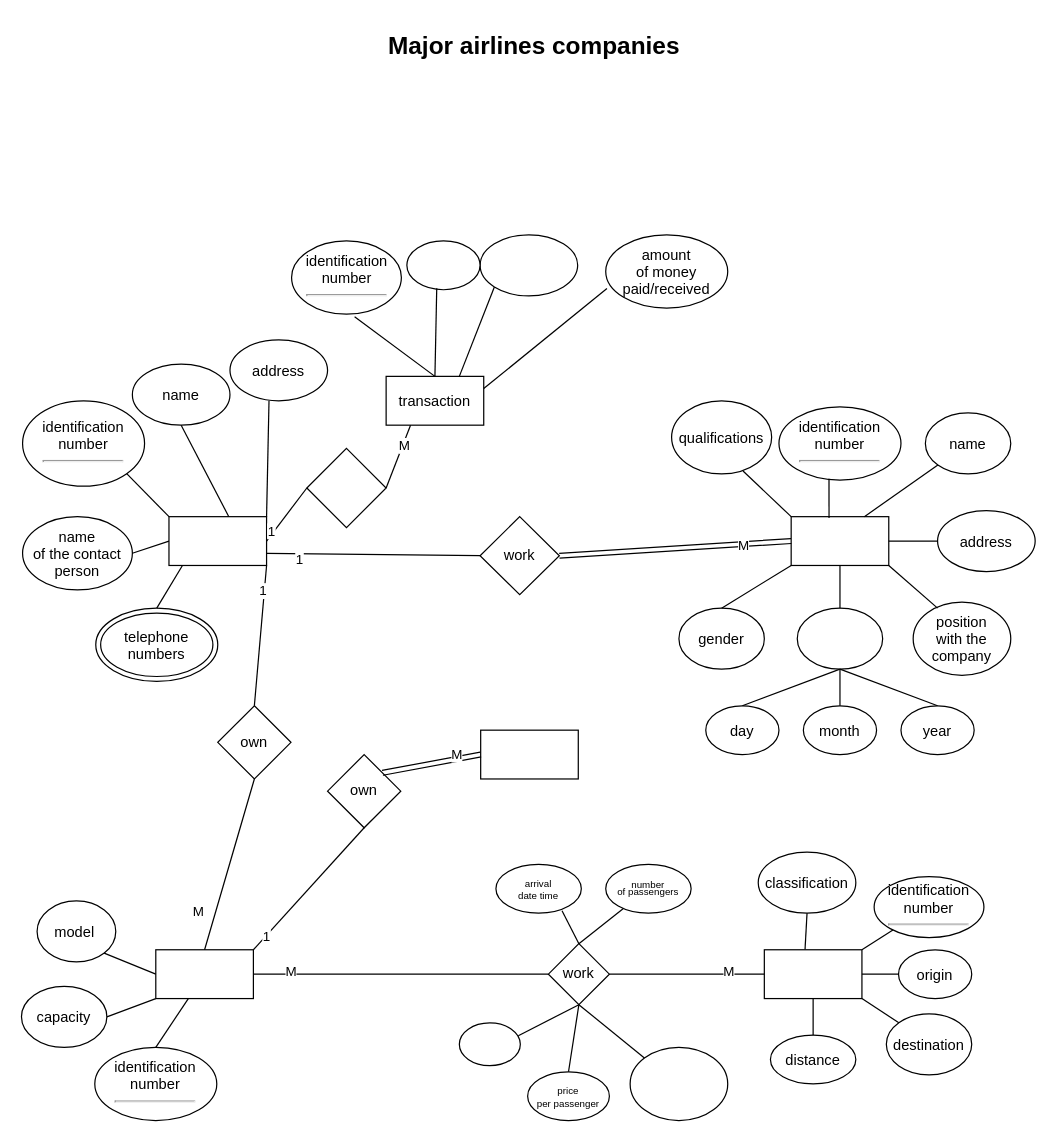
The diagram is 1057 pixels wide and 1144 high, and some of its shapes have lost their labels. Here are the shapes that lost their labels. From the top down, the centre of each, then its label:
the point at 443,265: date
the point at 528,265: description
the point at 346,487: buy / sell
the point at 217,540: airline
the point at 839,540: employee
the point at 839,638: birthday
the point at 528,754: Crew
the point at 204,974: aircraft
the point at 812,974: routes
the point at 489,1044: departure date time
the point at 678,1083: the time that aircraft spent in traveling the route
